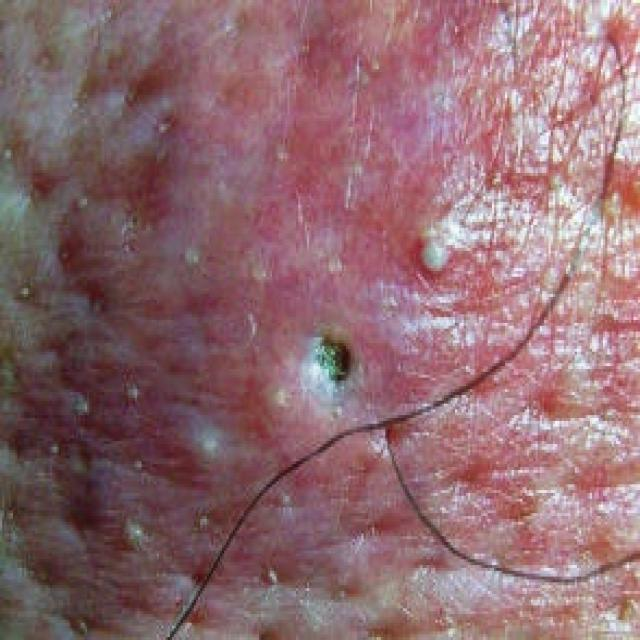Seborrheic-Keratoses-and-other-Benign-Tumors: (71, 67, 604, 578)
